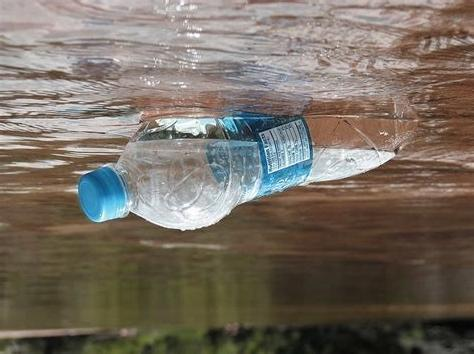Plastic: (75, 113, 418, 233)
